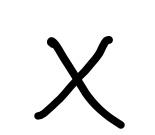mult: (34, 36, 125, 129)
